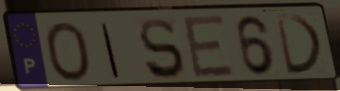6: (234, 13, 278, 79)
D: (273, 13, 327, 78)
E: (180, 14, 238, 82)
I: (99, 21, 122, 80)
O: (43, 20, 94, 84)
S: (137, 16, 188, 82)
